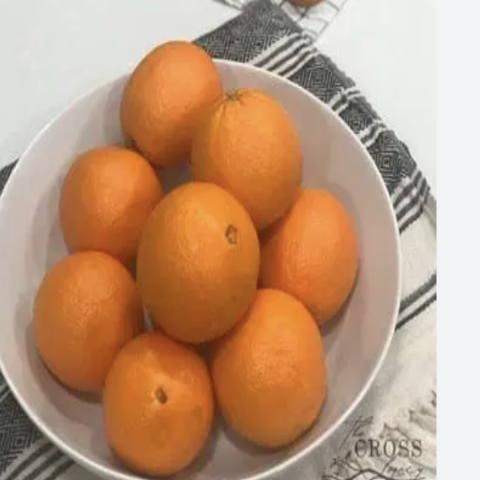orange: (133, 178, 265, 342), (205, 280, 327, 450), (237, 172, 381, 316), (96, 314, 214, 479), (15, 246, 146, 390), (116, 34, 229, 161)
